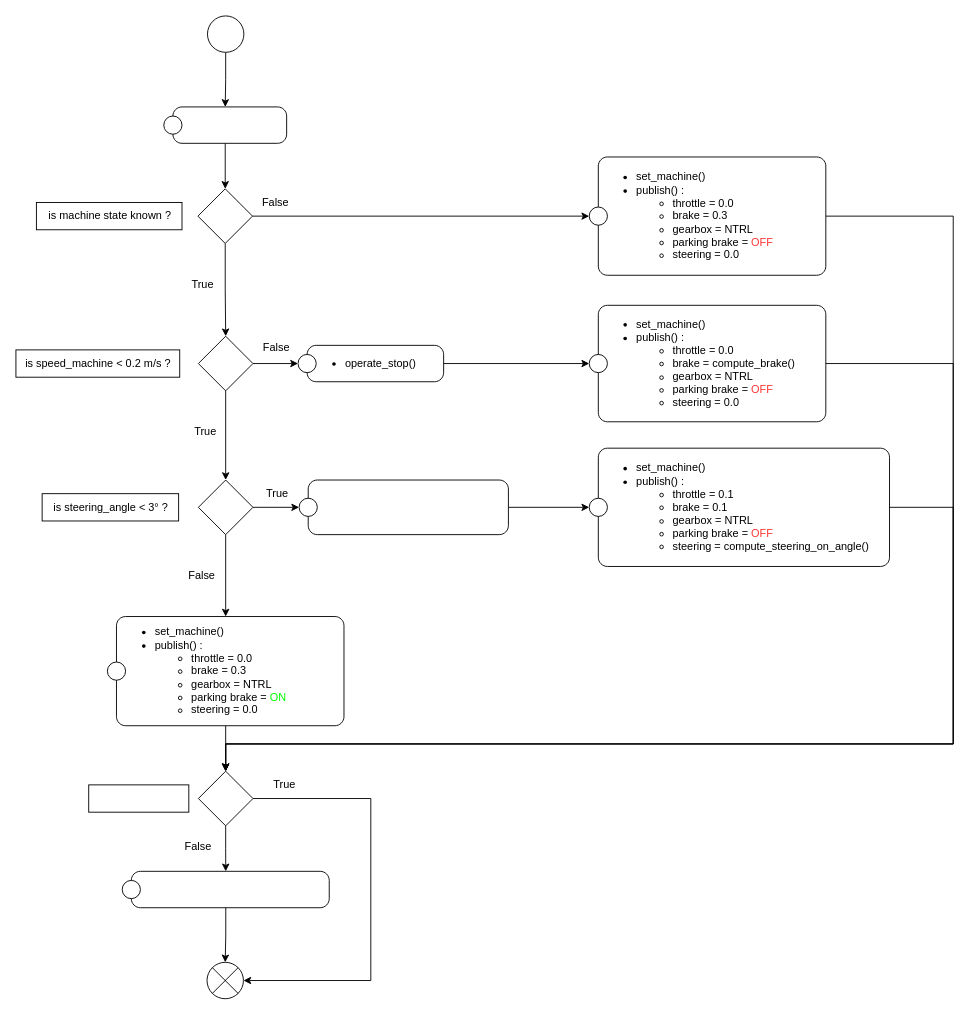
Some shapes in this 976 by 1015 pixel diagram are drawn without their labels. The centre of each missing label's shape, as x and y in pixels:
has been reset ?: the point at 138,798
orientate_before_idle() compute_steering_on_angle(): the point at 403,507
reset_at_end_of_path(): the point at 225,889
set_idle(): the point at 225,124
